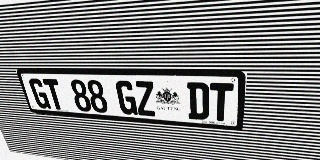8: (85, 80, 109, 113), (69, 79, 92, 112)
D: (187, 82, 209, 120)
G: (115, 80, 138, 115), (28, 78, 51, 109)
T: (210, 83, 234, 122), (42, 79, 66, 110)
Z: (134, 81, 156, 116)
